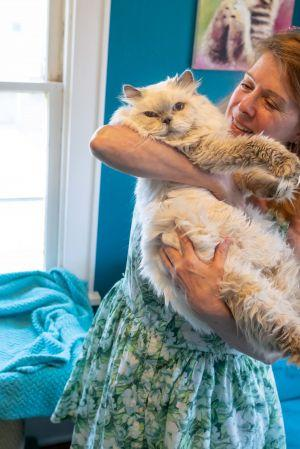persian: (113, 59, 212, 165)
